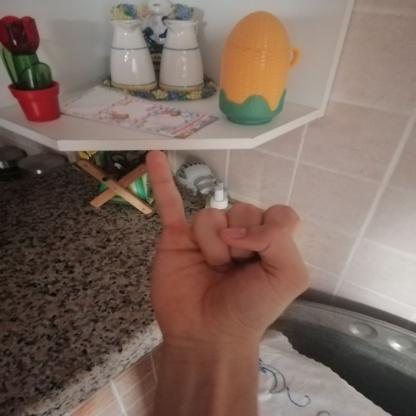MEEM: (118, 140, 326, 354)
